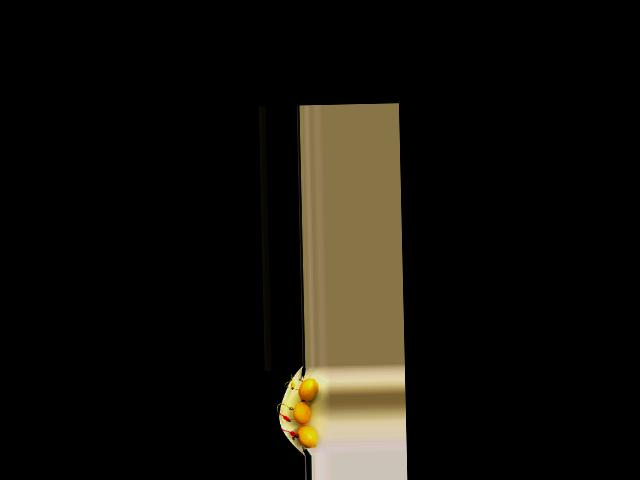lemon: (293, 425, 315, 448)
